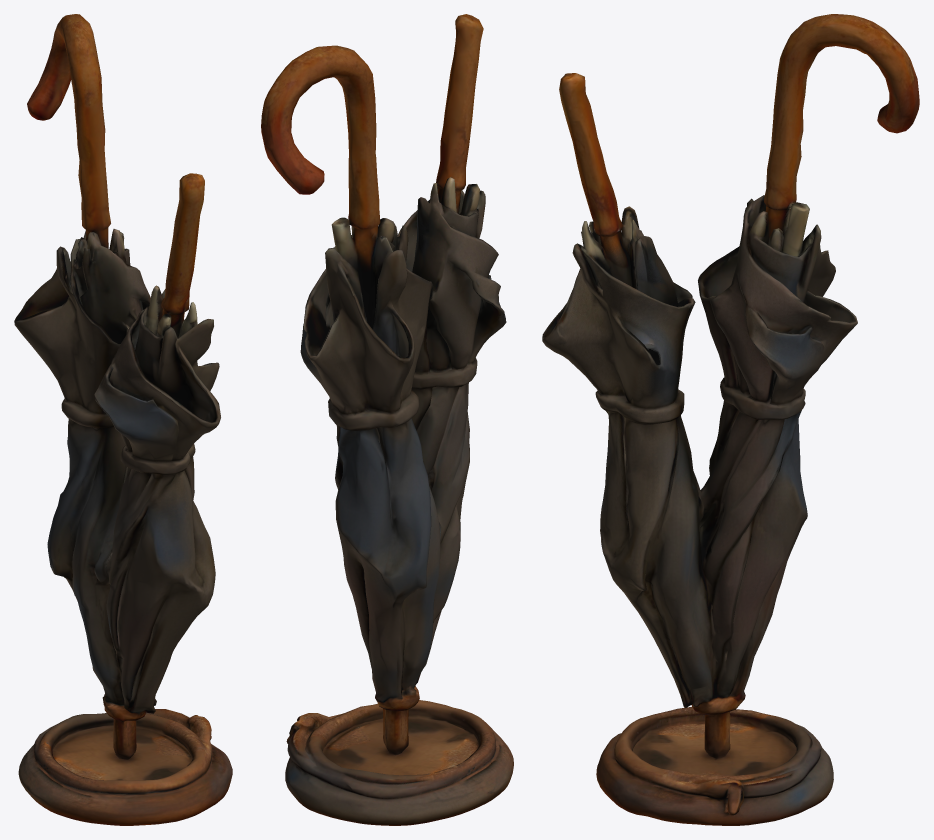
The model's file is scene-umbrella-stand-v03.glb.
The picture shows the model from 3 angles, left to right: view 1: azimuth 30°, elevation 25°; view 2: azimuth 150°, elevation 25°; view 3: azimuth 270°, elevation 25°; orthographic projection. The views are drawn at different scales.
Parts seen in each view (by area): view 1: tripo_node_5c8e4900-67c1-47e5-b3a3-cbfdad4a5a1c; view 2: tripo_node_5c8e4900-67c1-47e5-b3a3-cbfdad4a5a1c; view 3: tripo_node_5c8e4900-67c1-47e5-b3a3-cbfdad4a5a1c.
Part boxes in pixels (x1,y1,x2,y2): tripo_node_5c8e4900-67c1-47e5-b3a3-cbfdad4a5a1c: [14, 14, 232, 825]; tripo_node_5c8e4900-67c1-47e5-b3a3-cbfdad4a5a1c: [261, 14, 513, 825]; tripo_node_5c8e4900-67c1-47e5-b3a3-cbfdad4a5a1c: [542, 14, 919, 825].
Bounding box in the file's own units: 0.2456 × 0.9 × 0.3981.
1 material, 1 textured.
